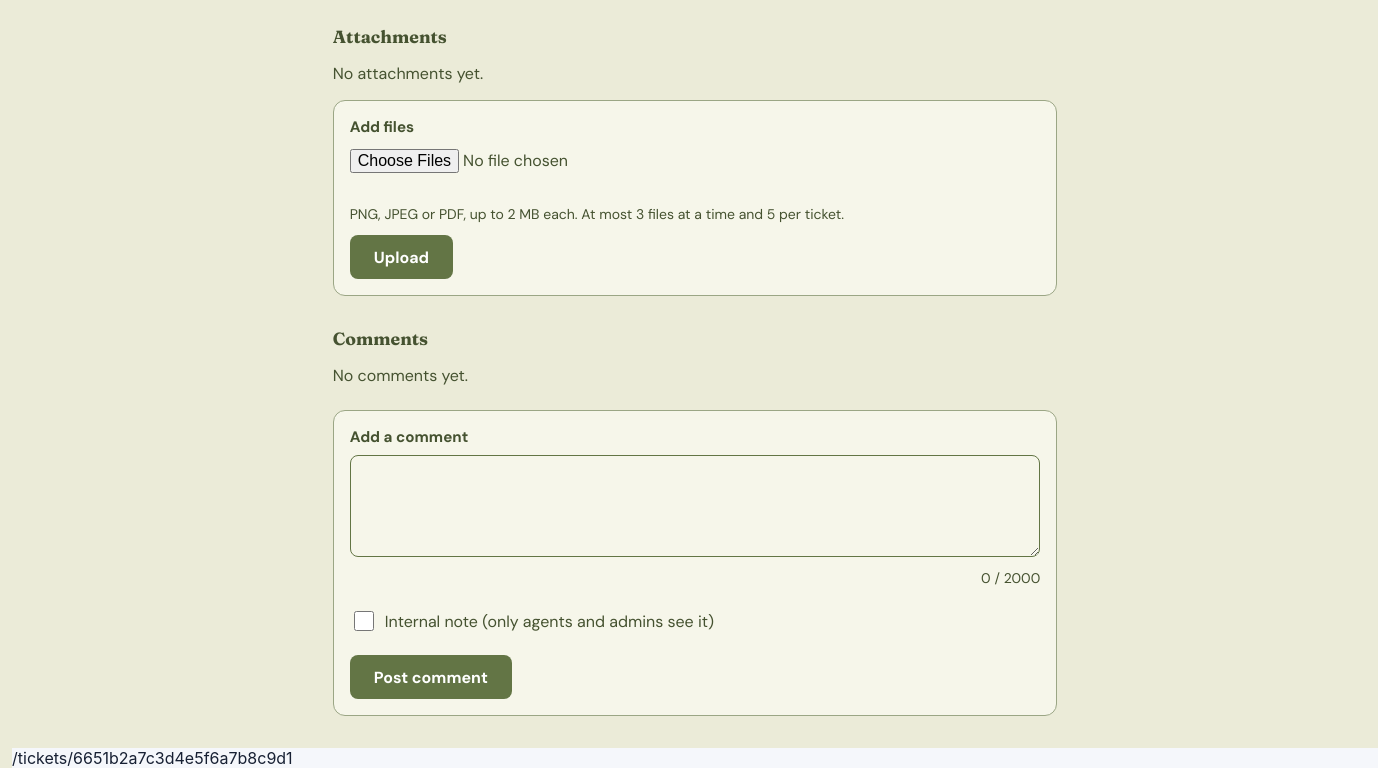
comment form › lets an agent post a public reply by default
(page scrolled)
Type "On it." into the text box labelled "Add a comment" at (695, 506), box [350,455,1040,557]
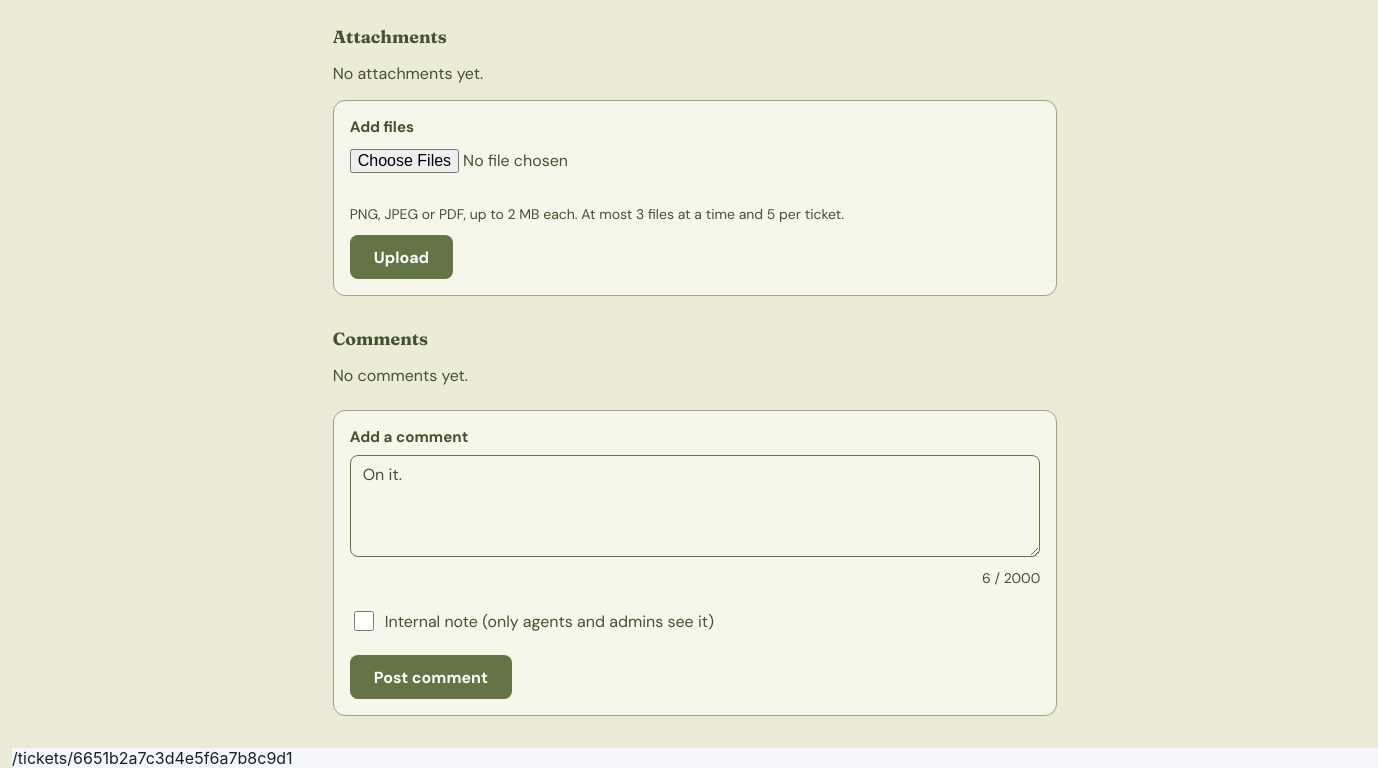
Click the button "Post comment" at (431, 677), box [350,655,512,699]
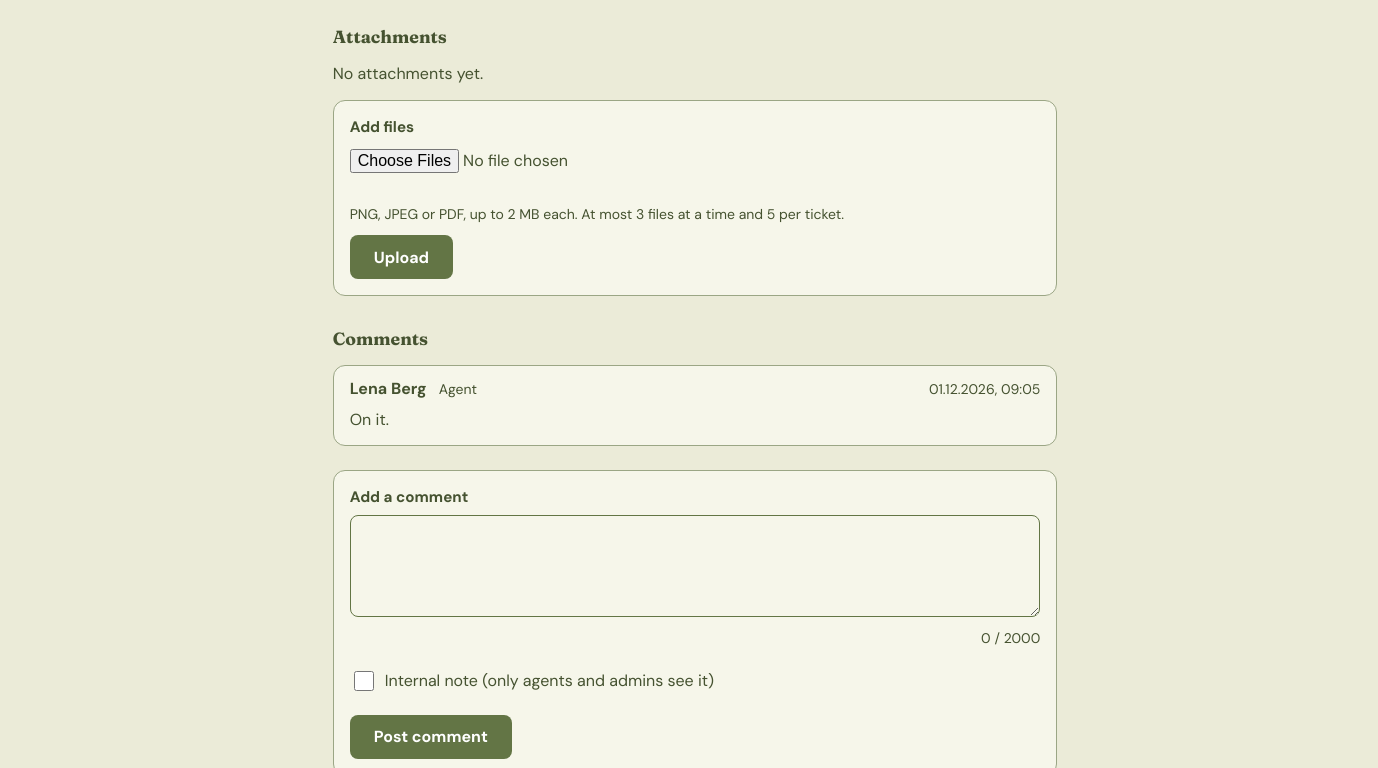
Now the text "On it." is shown, box [350,409,389,430]
